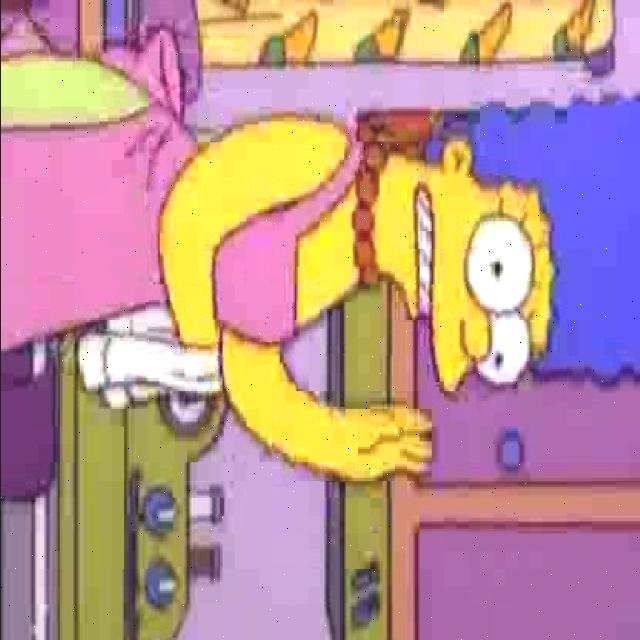Marge Simpson: (348, 93, 640, 400)
